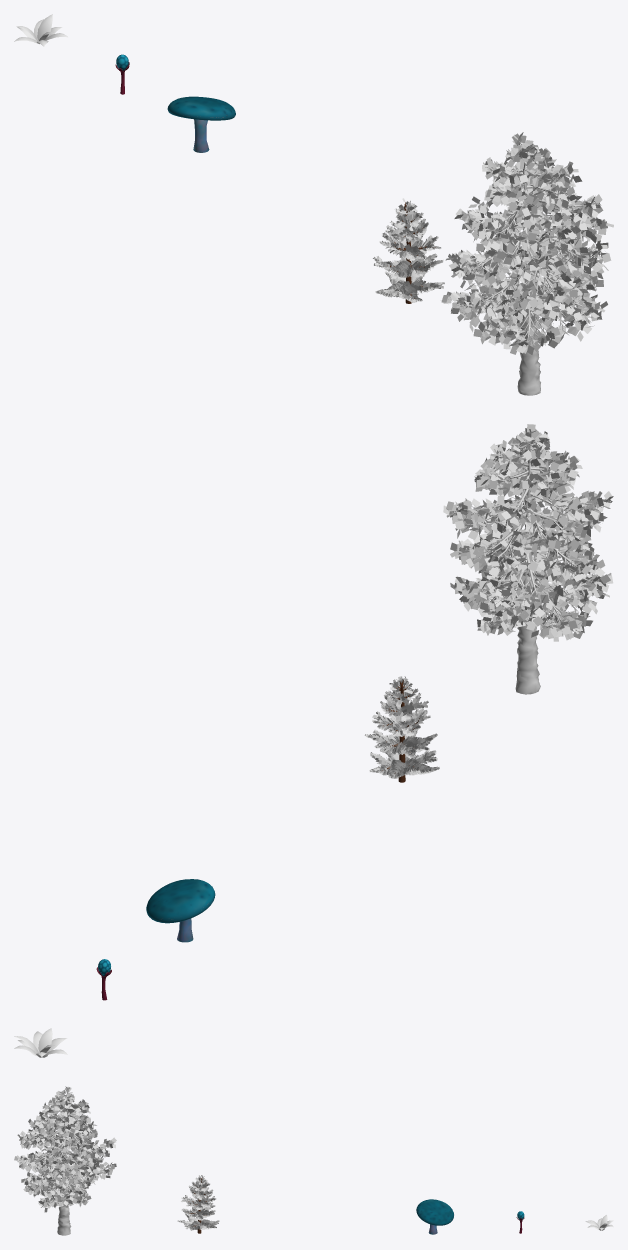
Rendered from PlantAssets.fbx.
3 views of the same model, one above another, from view 1: azimuth 30°, elevation 25°; view 2: azimuth 150°, elevation 25°; view 3: azimuth 270°, elevation 25° (orthographic). The views are drawn at different scales.
Visible parts, largest first — view 1: leaves, foliage02, tree, Mushroom01, Fern01; view 2: leaves, tree, foliage02, Mushroom01, Fern01; view 3: leaves, foliage02, tree, Mushroom01, Fern01.
Boxes of the visible parts, x1,y1,x2,y2 form: leaves: (441, 132, 613, 354); foliage02: (373, 198, 444, 302); tree: (451, 142, 601, 395); Mushroom01: (167, 96, 235, 152); Fern01: (14, 14, 67, 46); leaves: (443, 424, 613, 641); tree: (452, 437, 604, 694); foliage02: (364, 676, 439, 778); Mushroom01: (146, 879, 215, 942); Fern01: (14, 1028, 67, 1057); leaves: (14, 1086, 116, 1212); foliage02: (177, 1175, 219, 1230); tree: (26, 1093, 109, 1235); Mushroom01: (416, 1199, 453, 1234); Fern01: (585, 1215, 613, 1230).
Bounding box in the file's own units: 2973 × 4848 × 18180.
